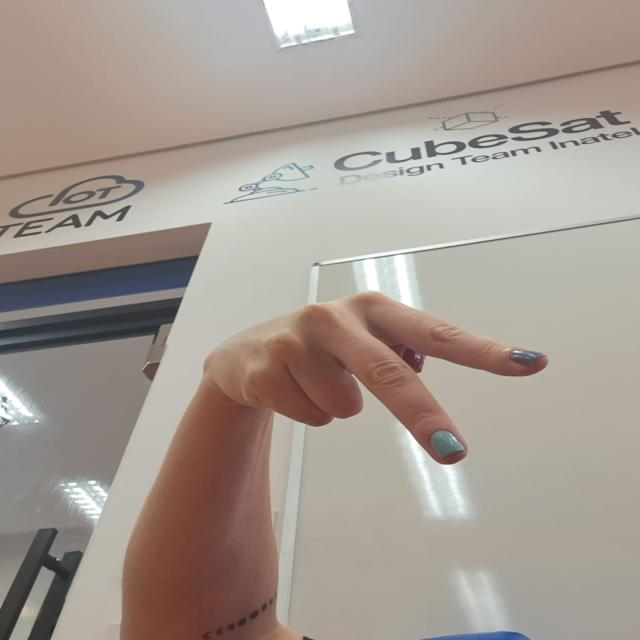P: (192, 286, 557, 466)
